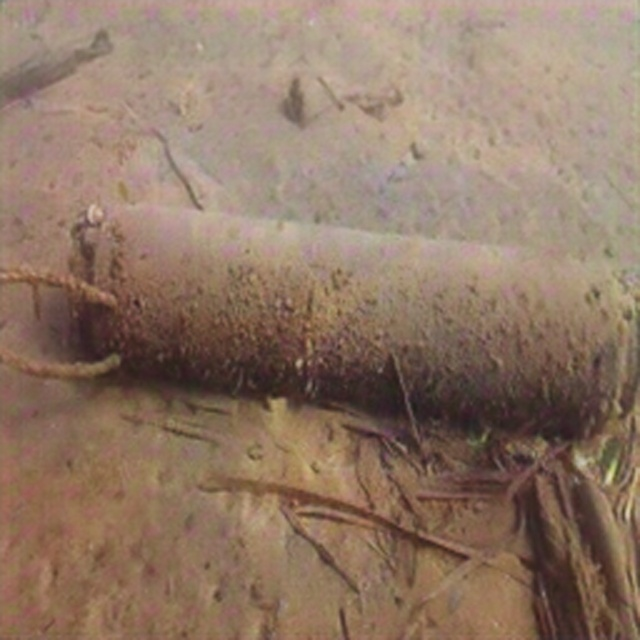mine: (68, 202, 639, 437)
